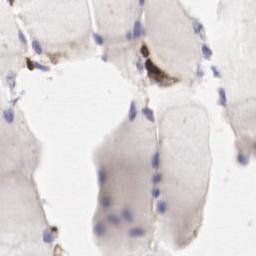nucleus: (91, 222, 107, 235), (143, 107, 155, 122), (216, 89, 227, 104), (129, 100, 136, 122), (202, 45, 213, 59), (211, 64, 221, 79), (4, 108, 14, 123), (7, 73, 15, 91), (194, 23, 204, 37), (133, 20, 141, 37), (128, 227, 145, 235), (34, 63, 49, 72), (91, 32, 102, 44), (236, 154, 248, 165), (17, 29, 27, 42), (157, 201, 167, 214), (43, 230, 53, 243), (108, 214, 119, 225), (122, 211, 134, 221), (197, 62, 204, 79), (98, 170, 106, 184), (152, 153, 159, 168), (136, 58, 142, 72), (33, 41, 40, 52), (102, 198, 109, 207), (153, 188, 160, 196), (101, 55, 107, 63), (154, 175, 160, 182), (139, 1, 145, 7), (127, 33, 132, 39)
positive_cell: (146, 61, 177, 86), (27, 59, 48, 72)
